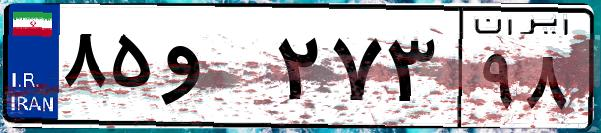2: (270, 28, 330, 110)
3: (385, 28, 445, 110)
5: (110, 28, 158, 98)
7: (330, 28, 385, 110)
8: (57, 26, 110, 100), (525, 38, 570, 115)
9: (475, 38, 525, 113)
و: (158, 20, 270, 120)
